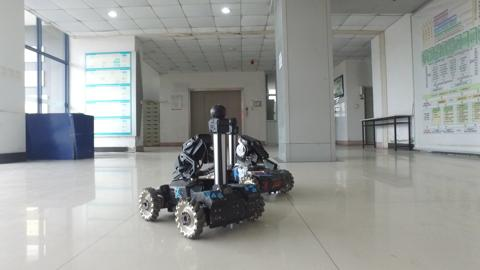chariot: (134, 101, 263, 242), (218, 116, 296, 208)
